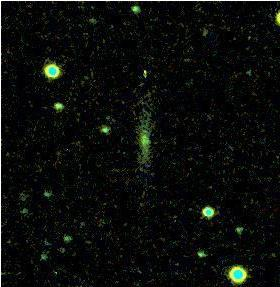star: (128, 55, 158, 85)
